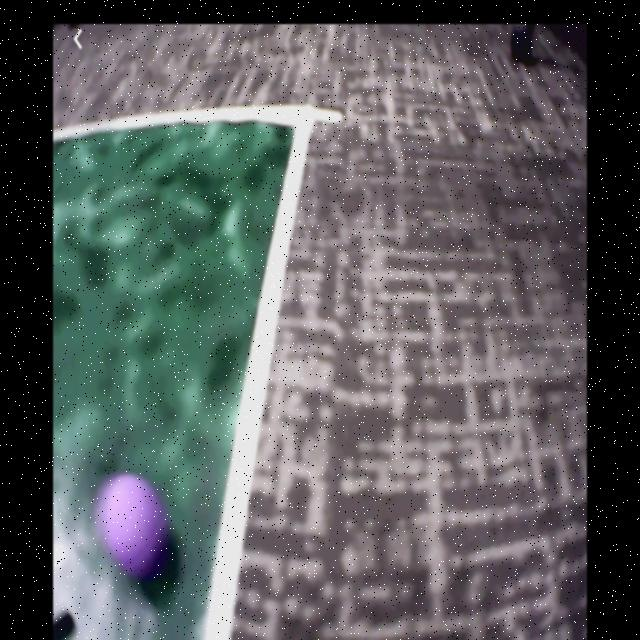ball: (100, 476, 165, 577)
